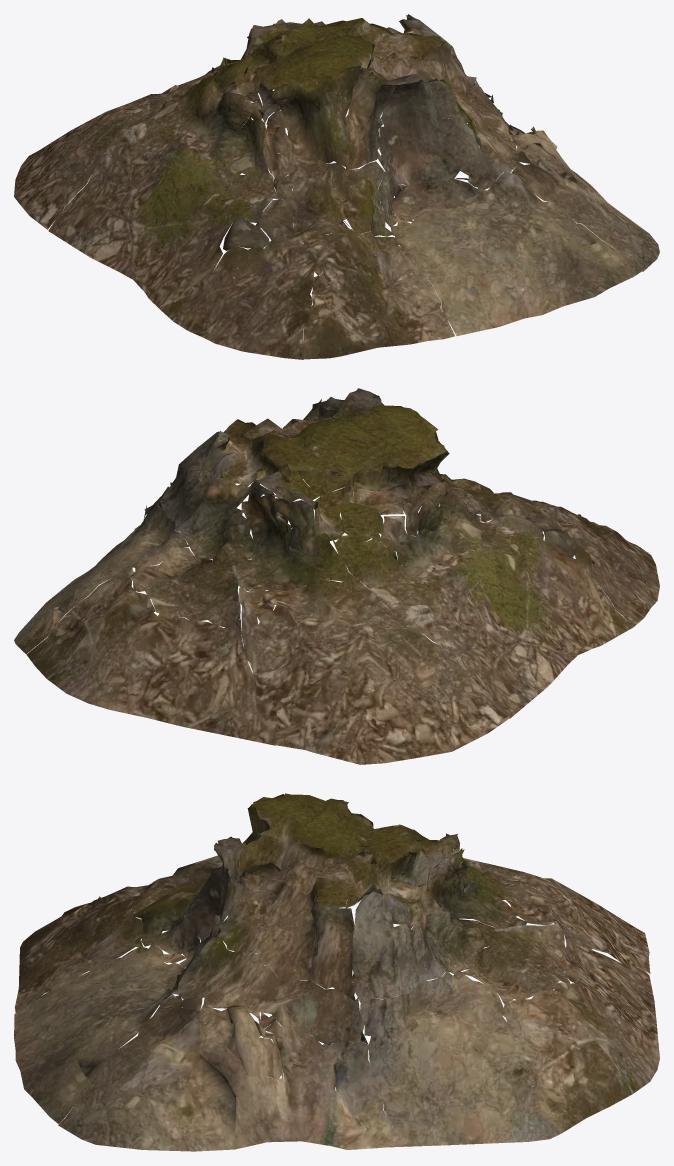
Rendered from tree_stump_01.glb.
3 renders of one model, top to bottom at view 1: azimuth 30°, elevation 25°; view 2: azimuth 150°, elevation 25°; view 3: azimuth 270°, elevation 25°, orthographic. The views are drawn at different scales.
Visible parts, largest first — view 1: tree_stump_01; view 2: tree_stump_01; view 3: tree_stump_01.
Boxes of the visible parts, x1,y1,x2,y2 form: tree_stump_01: (14, 14, 659, 359); tree_stump_01: (14, 388, 659, 764); tree_stump_01: (14, 793, 659, 1151).
Size of the model in its own units: 1.42 by 0.571 by 1.59.
Materials: 1 (1 with a texture image).
